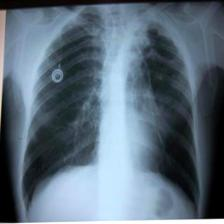tuberculosis: (13, 5, 206, 219)
